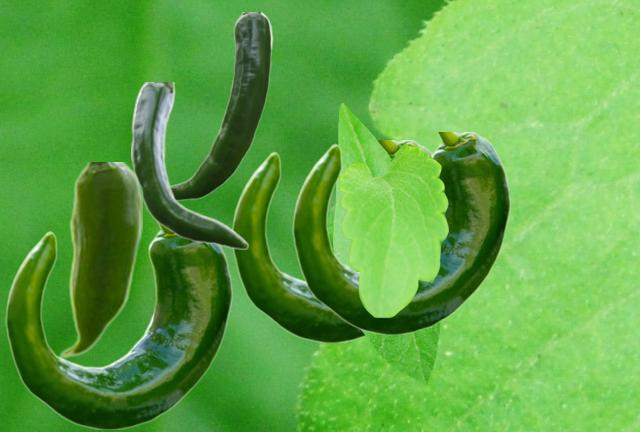green_chili: (5, 221, 232, 428), (292, 132, 510, 333), (231, 140, 431, 341), (131, 82, 248, 248), (171, 12, 272, 200), (58, 162, 141, 358)
